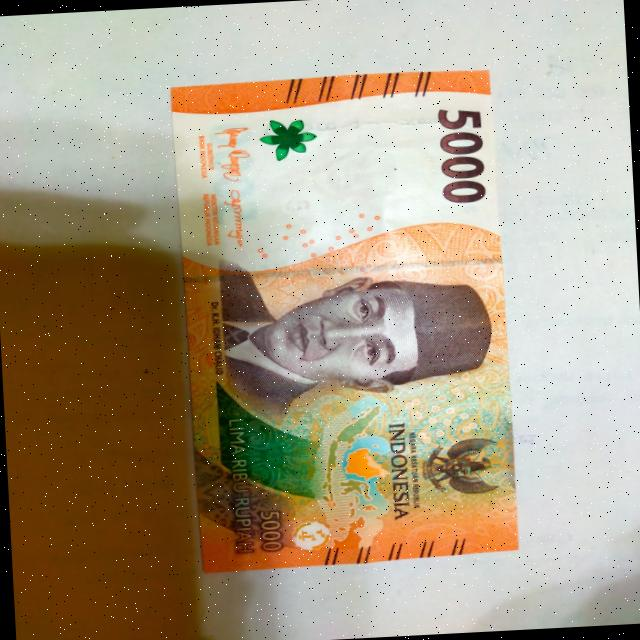5K: (149, 57, 535, 590)
